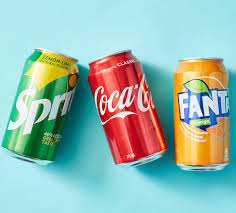can: (7, 45, 236, 176)
